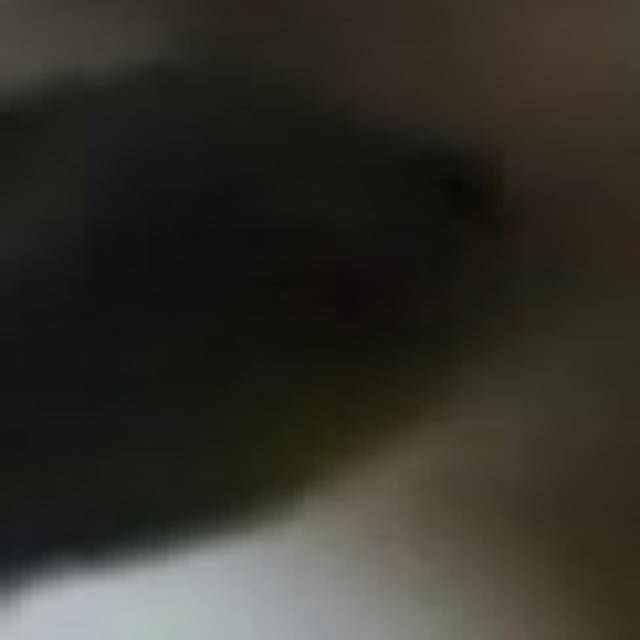fish: (10, 6, 639, 640)
